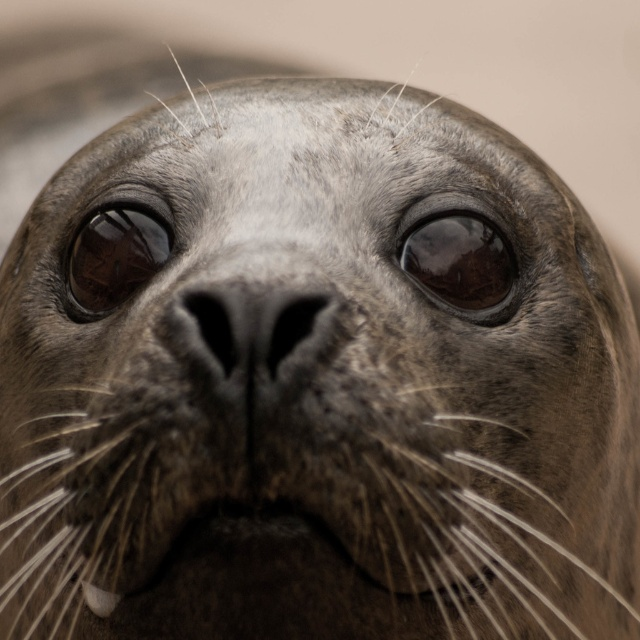Harbor seal: (0, 41, 640, 637)
